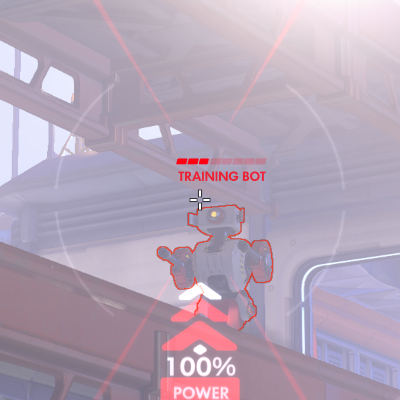hpbar: (175, 158, 266, 165)
